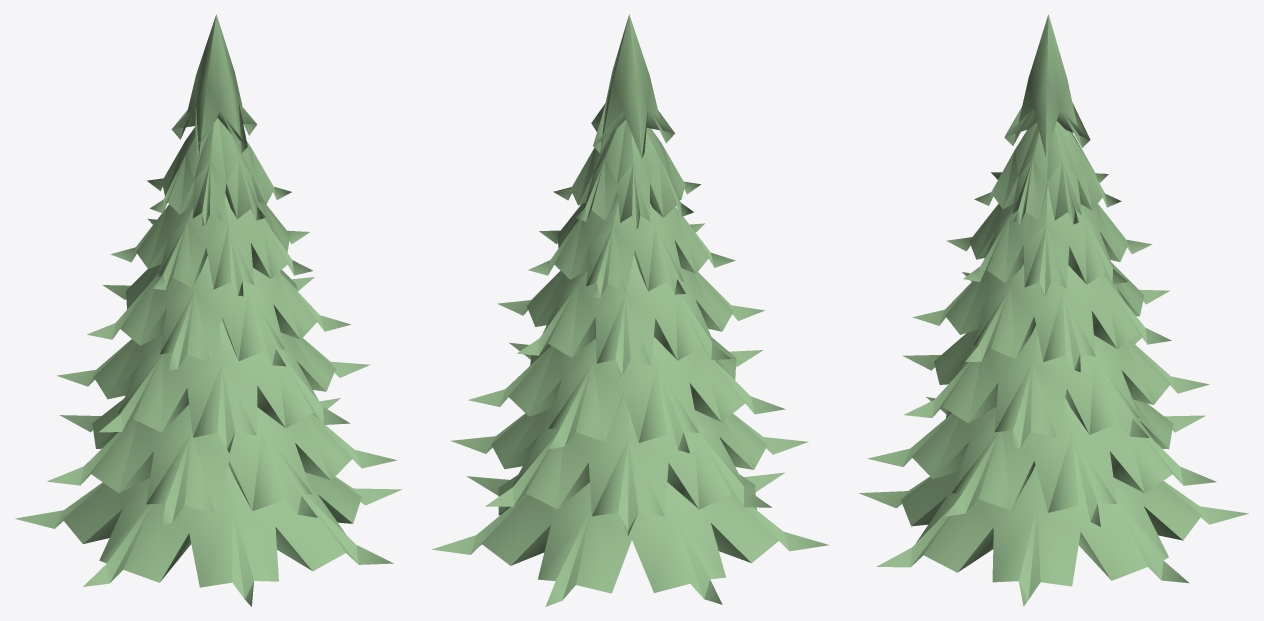
File: tree-pine-b-crown.glb
The picture shows the model from 3 angles, left to right: view 1: azimuth 30°, elevation 25°; view 2: azimuth 150°, elevation 25°; view 3: azimuth 270°, elevation 25°; orthographic projection.
Visible parts, largest first — view 1: tree-pine-b-crown; view 2: tree-pine-b-crown; view 3: tree-pine-b-crown.
Boxes of the visible parts, x1,y1,x2,y2 form: tree-pine-b-crown: (15, 14, 402, 606); tree-pine-b-crown: (432, 14, 829, 606); tree-pine-b-crown: (859, 14, 1248, 606).
Bounding box in the file's own units: 0.5542 × 0.8074 × 0.5529.
